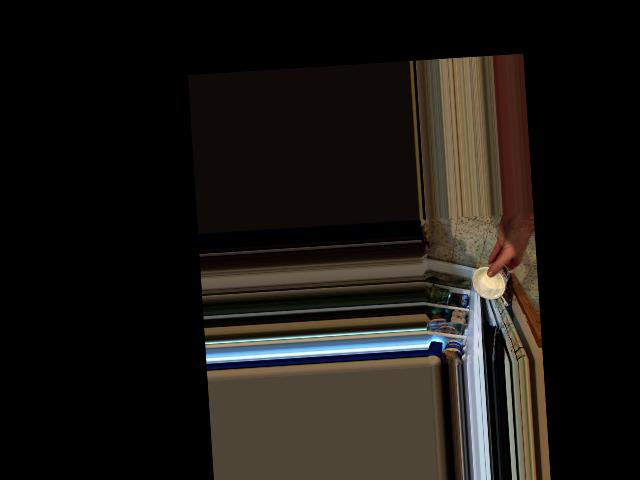cotage: (470, 261, 514, 303)
